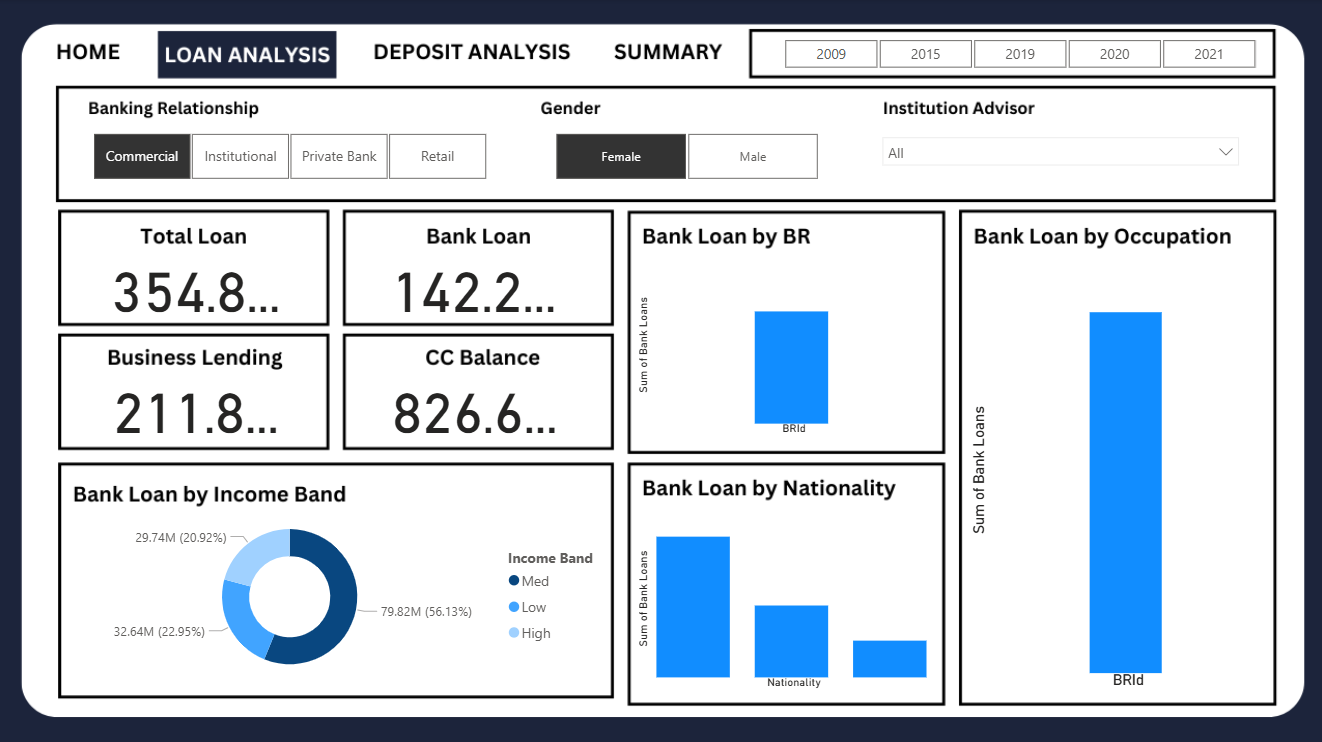

This screenshot's page, from the dashboard's own definition file:
{"tool":"powerbi","page":{"name":"Loan Analysis","canvas":[1280,720],"ordinal":1},"visuals":[{"type":"slicer","fields":{"Values":["banking_case customer.Year of Joining"]},"box":[733.3,32.2,504.1,34.9],"z":0},{"type":"actionButton","box":[36.4,31.7,99.7,39.6],"z":1000},{"type":"actionButton","box":[348.2,31.7,221.6,39.6],"z":2000},{"type":"actionButton","box":[587.1,31.7,123.4,39.6],"z":3000},{"type":"card","fields":{"Values":["banking_case customer.Total Loan"]},"box":[100.9,243.7,179.5,65.5],"z":4000},{"type":"card","fields":{"Values":["Sum(banking_case customer.Bank Loans)"]},"box":[369.5,243.7,179.5,65.5],"z":5000},{"type":"card","fields":{"Values":["Sum(banking_case customer.Business Lending)"]},"box":[100.9,360.4,179.5,65.5],"z":6000},{"type":"card","fields":{"Values":["Sum(banking_case customer.Credit Card Balance)"]},"box":[370.8,360.4,179.5,65.5],"z":7000},{"type":"donutChart","fields":{"Category":["banking_case customer.Income Band"],"Y":["Sum(banking_case customer.Bank Loans)"]},"box":[66.8,488.8,530.7,176.9],"z":8000},{"type":"clusteredColumnChart","fields":{"Category":["banking_case customer.BRId"],"Y":["Sum(banking_case customer.Bank Loans)"]},"box":[613.3,243.7,293.5,182.1],"z":9000},{"type":"clusteredColumnChart","fields":{"Category":["banking_case customer.Nationality"],"Y":["Sum(banking_case customer.Bank Loans)"]},"box":[613.3,488.8,293.5,182.1],"z":10000},{"type":"clusteredColumnChart","fields":{"Category":["banking_case customer.BRId"],"Y":["Sum(banking_case customer.Bank Loans)"]},"box":[933.7,245.3,292.8,425.7],"z":11000},{"type":"slicer","fields":{"Values":["banking_case customer.BRId"]},"box":[66.8,123.2,428.5,57.7],"z":12000},{"type":"slicer","fields":{"Values":["banking_case customer.GenderId"]},"box":[512.4,123.2,302.7,57.7],"z":13000},{"type":"slicer","fields":{"Values":["banking_case customer.IAId"]},"box":[843.9,123.2,364.3,57.7],"z":14000}]}

Visuals, with their boxes in screenshot pixels (x1, y1, x2, y2), scaled from the page's 1280x720 canvas onto the 1322x742 screenshot:
slicer - banking_case customer.Year of Joining: <bbox>757, 33, 1278, 69</bbox>
actionButton: <bbox>38, 33, 141, 73</bbox>
actionButton: <bbox>360, 33, 588, 73</bbox>
actionButton: <bbox>606, 33, 734, 73</bbox>
card - banking_case customer.Total Loan: <bbox>104, 251, 290, 319</bbox>
card - Sum(banking_case customer.Bank Loans): <bbox>382, 251, 567, 319</bbox>
card - Sum(banking_case customer.Business Lending): <bbox>104, 371, 290, 439</bbox>
card - Sum(banking_case customer.Credit Card Balance): <bbox>383, 371, 568, 439</bbox>
donutChart - banking_case customer.Income Band x Sum(banking_case customer.Bank Loans): <bbox>69, 504, 617, 686</bbox>
clusteredColumnChart - banking_case customer.BRId x Sum(banking_case customer.Bank Loans): <bbox>633, 251, 937, 439</bbox>
clusteredColumnChart - banking_case customer.Nationality x Sum(banking_case customer.Bank Loans): <bbox>633, 504, 937, 691</bbox>
clusteredColumnChart - banking_case customer.BRId x Sum(banking_case customer.Bank Loans): <bbox>964, 253, 1267, 692</bbox>
slicer - banking_case customer.BRId: <bbox>69, 127, 512, 186</bbox>
slicer - banking_case customer.GenderId: <bbox>529, 127, 842, 186</bbox>
slicer - banking_case customer.IAId: <bbox>872, 127, 1248, 186</bbox>
